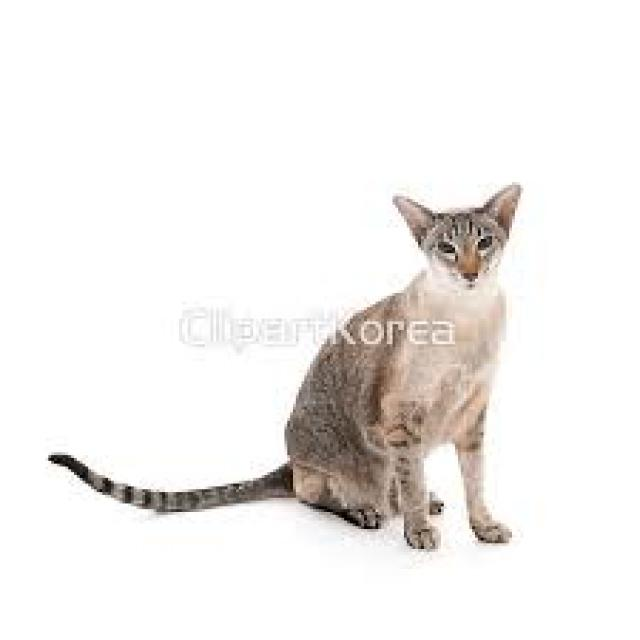cat: (43, 177, 530, 554)
